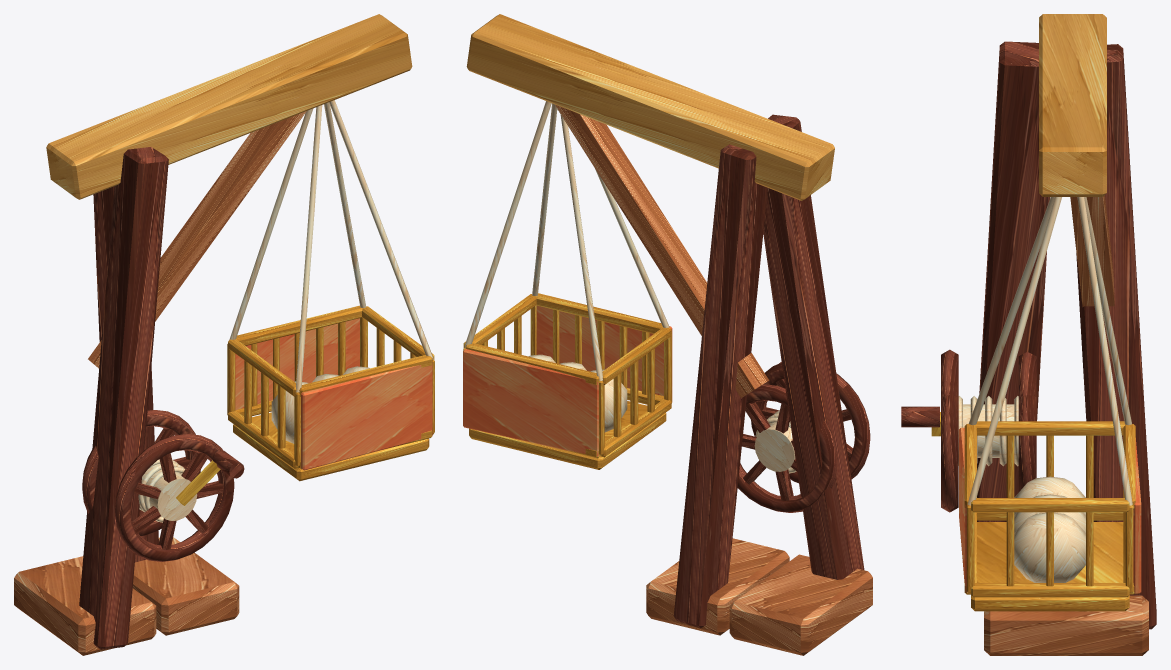
File: 05_手绘油画候选.glb
3 views of the same model, side by side, from view 1: azimuth 30°, elevation 25°; view 2: azimuth 150°, elevation 25°; view 3: azimuth 270°, elevation 25° (orthographic). The views are drawn at different scales.
Parts seen in each view (by area): view 1: kite_dock; view 2: kite_dock; view 3: kite_dock.
Boxes of the visible parts, x1,y1,x2,y2 form: kite_dock: (14,14,434,655); kite_dock: (463,14,872,655); kite_dock: (901,14,1156,655).
Bounding box in the file's own units: 1.5 × 2.11 × 0.789.
Materials: 2 (2 with a texture image).
